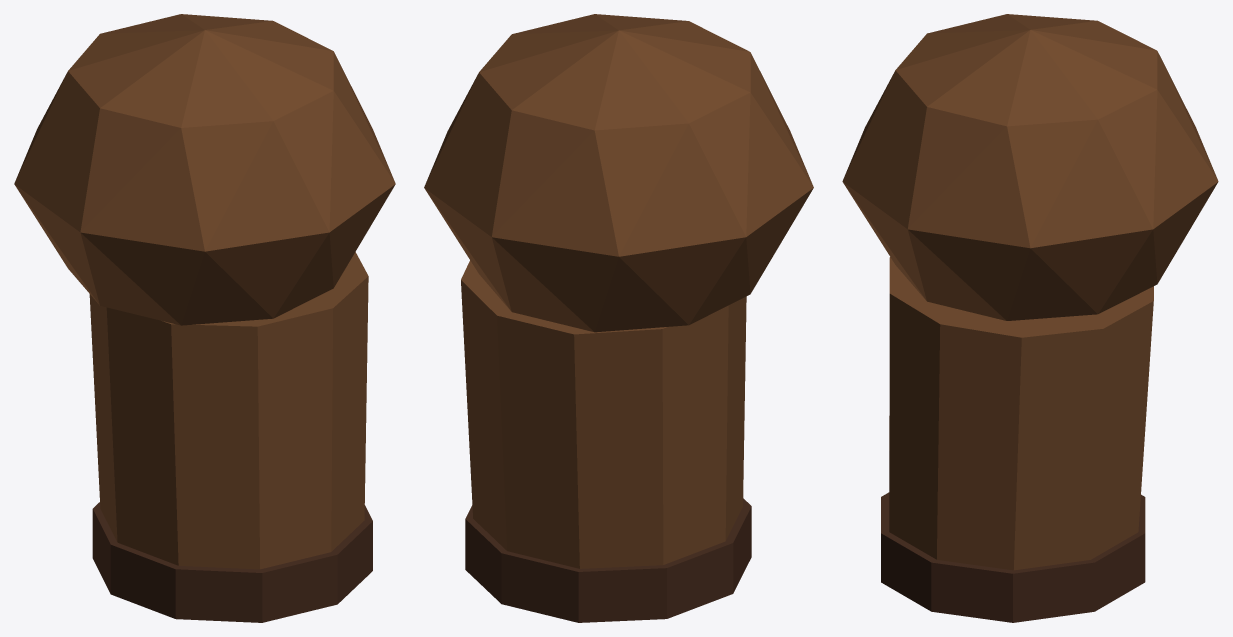
The model's file is gear_hard_body_arm_r.glb.
The picture shows the model from 3 angles, left to right: view 1: azimuth 30°, elevation 25°; view 2: azimuth 150°, elevation 25°; view 3: azimuth 270°, elevation 25°; orthographic projection. The views are drawn at different scales.
Visible parts, largest first — view 1: gear_hard_body_arm_r; view 2: gear_hard_body_arm_r; view 3: gear_hard_body_arm_r.
Part boxes in pixels (x1,y1,x2,y2): gear_hard_body_arm_r: (14, 14, 395, 622); gear_hard_body_arm_r: (424, 14, 813, 622); gear_hard_body_arm_r: (842, 14, 1218, 622).
Size of the model in its own units: 0.1707 by 0.267 by 0.1733.
